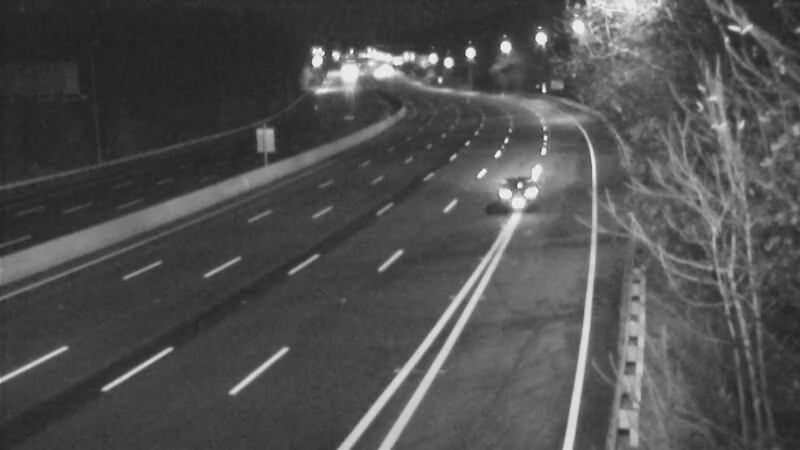vehicle: (475, 151, 555, 231)
